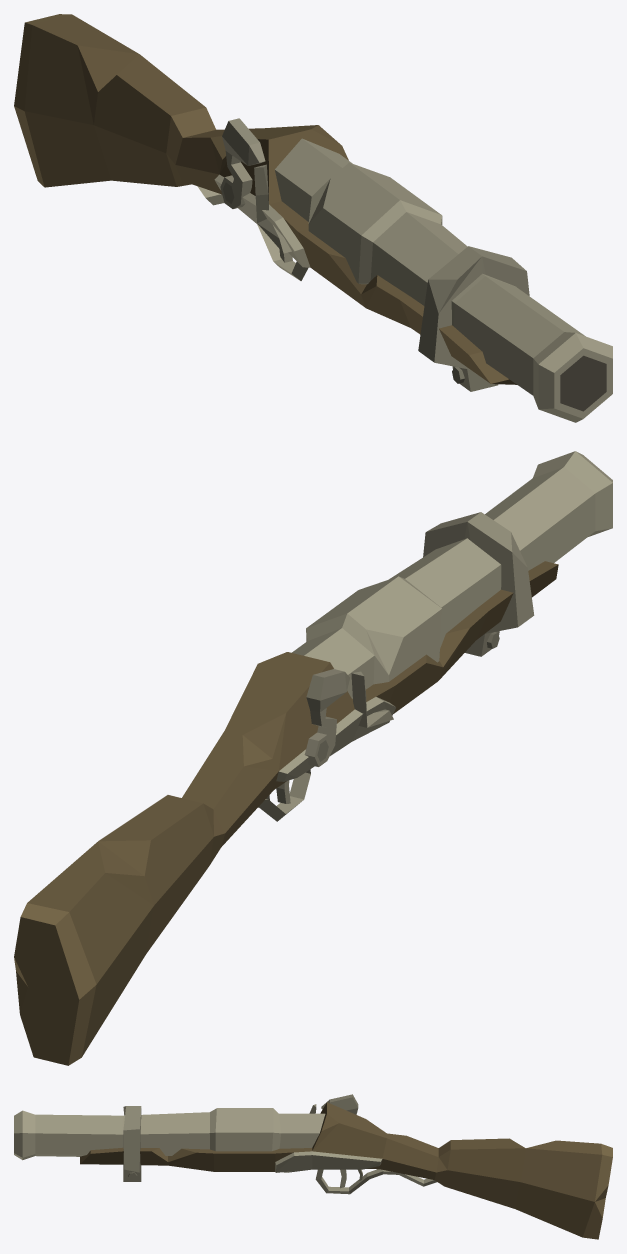
The model's file is HandCannon_1.fbx.
The picture shows the model from 3 angles, top to bottom: view 1: azimuth 30°, elevation 25°; view 2: azimuth 150°, elevation 25°; view 3: azimuth 270°, elevation 25°; orthographic projection. The views are drawn at different scales.
Parts seen in each view (by area): view 1: HandCannon_1; view 2: HandCannon_1; view 3: HandCannon_1.
Boxes of the visible parts, x1=… form: HandCannon_1: x1=14, y1=14, x2=612, y2=422; HandCannon_1: x1=14, y1=451, x2=612, y2=1065; HandCannon_1: x1=14, y1=1094, x2=612, y2=1239.
Size of the model in its own units: 13.02 by 26.05 by 110.
